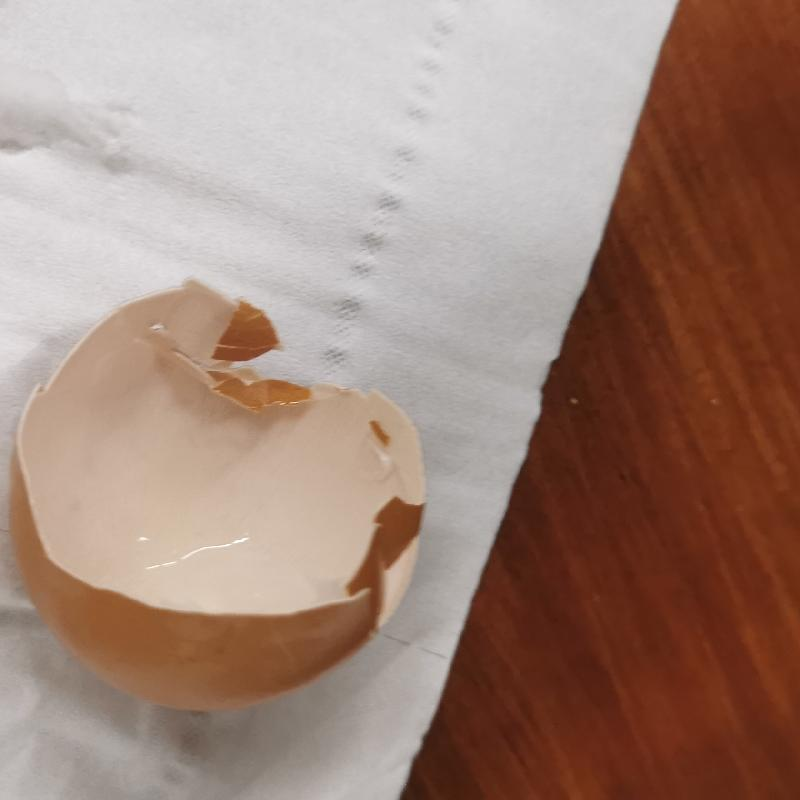eggshell: (8, 280, 427, 710)
